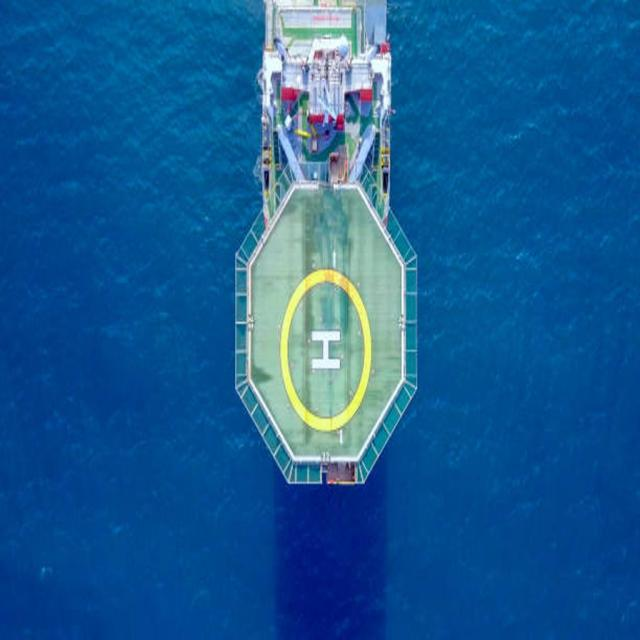helipad: (278, 267, 374, 432)
